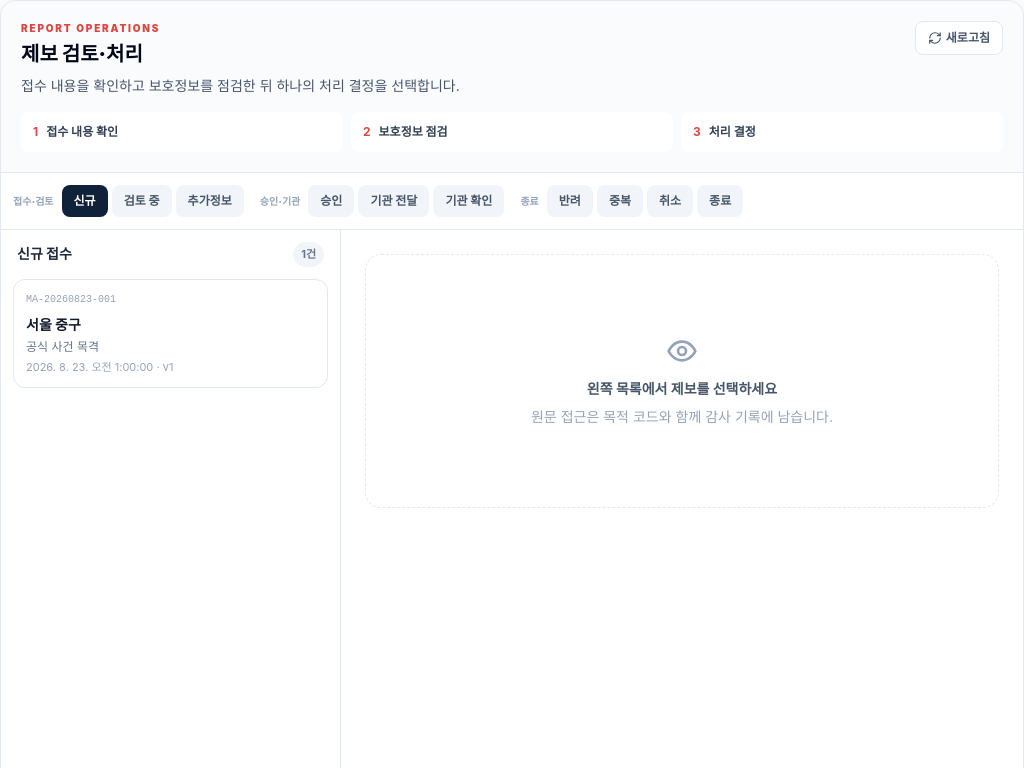
Scenario: ReportsModerationV2 decision flow › clears stale detail and error state across failed and successful detail requests
Click the button that starts with "MA-20260823-001" at (71,299), box [13, 278, 328, 388]
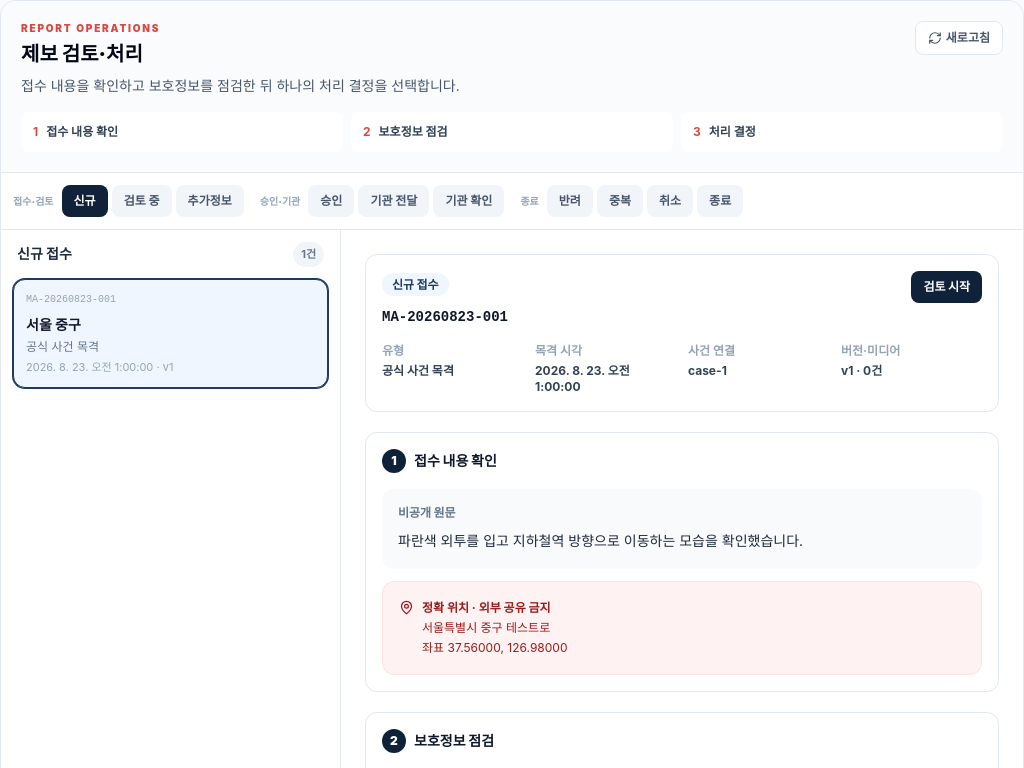
Expected: the text "파란색 외투를 입고 지하철역 방향으로 이동하는 모습을 확인했습니다." is shown, [398, 532, 803, 549]
Click the button that starts with "MA-20260823-001" at (71,299), box [13, 278, 328, 388]
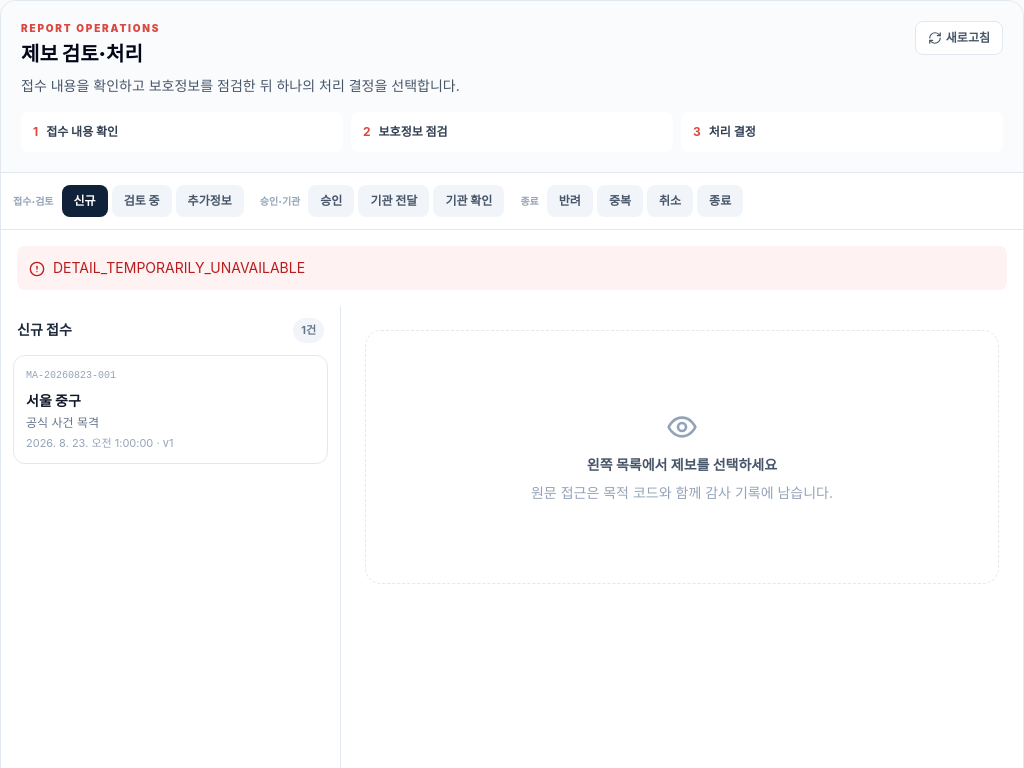
Expected: the text "DETAIL_TEMPORARILY_UNAVAILABLE" is shown, [17, 246, 1007, 290]
Expected: the text "파란색 외투를 입고 지하철역 방향으로 이동하는 모습을 확인했습니다." is gone
Click the button that starts with "MA-20260823-001" at (71,375), box [13, 354, 328, 464]
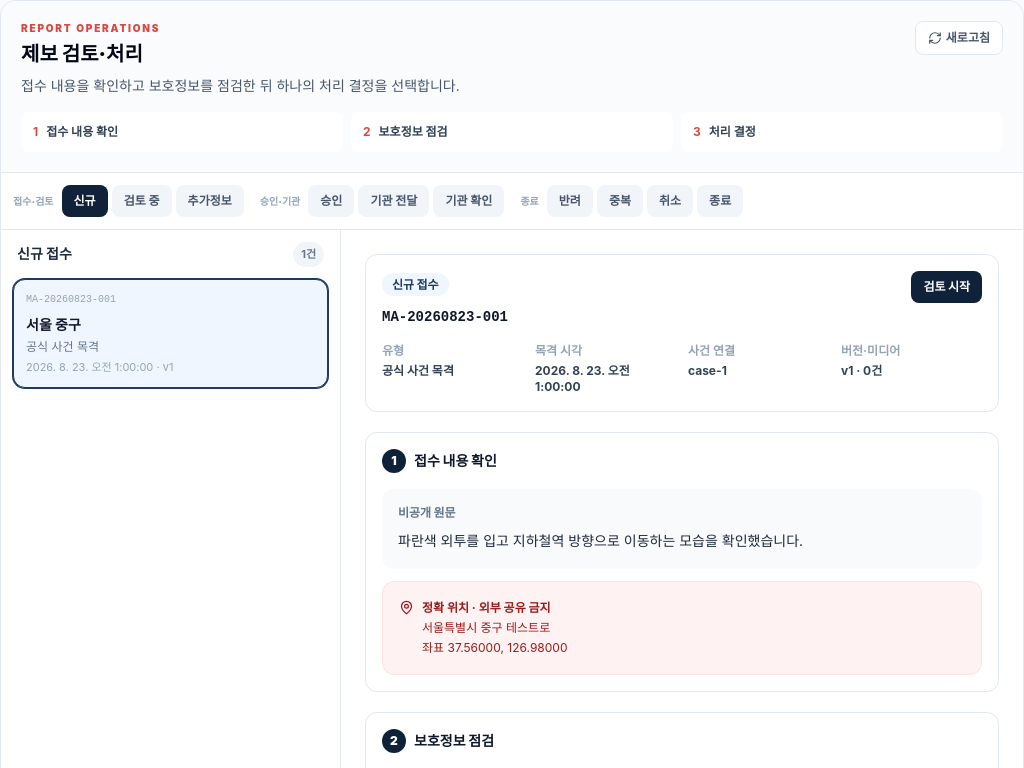
Expected: the text "파란색 외투를 입고 지하철역 방향으로 이동하는 모습을 확인했습니다." is shown, [398, 532, 803, 549]
Expected: the text "DETAIL_TEMPORARILY_UNAVAILABLE" is gone
